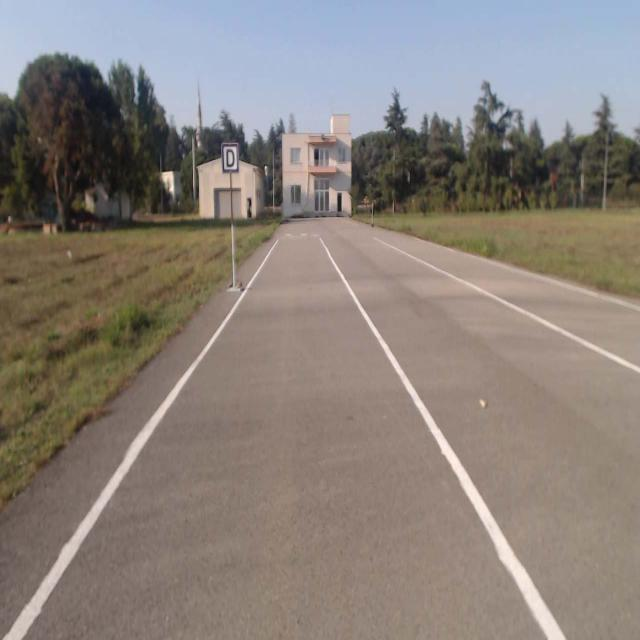durak: (221, 143, 239, 173)
